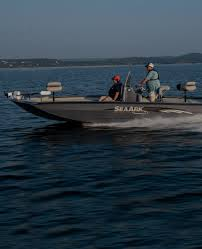boat: (5, 71, 202, 135)
